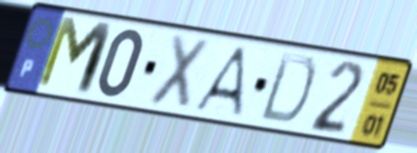0: (94, 27, 147, 100)
2: (306, 58, 367, 137)
A: (190, 43, 248, 120)
D: (256, 49, 319, 127)
M: (32, 13, 118, 101)
X: (143, 31, 215, 115)
